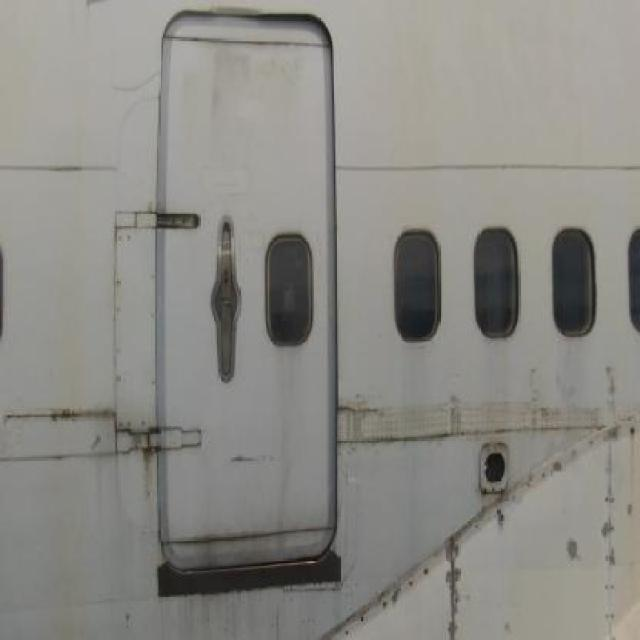Missing-Rivet: (467, 432, 593, 546), (111, 202, 164, 438), (592, 395, 640, 640), (315, 571, 436, 640), (436, 512, 472, 640)
Scartch: (102, 426, 186, 520), (1, 398, 117, 438)
